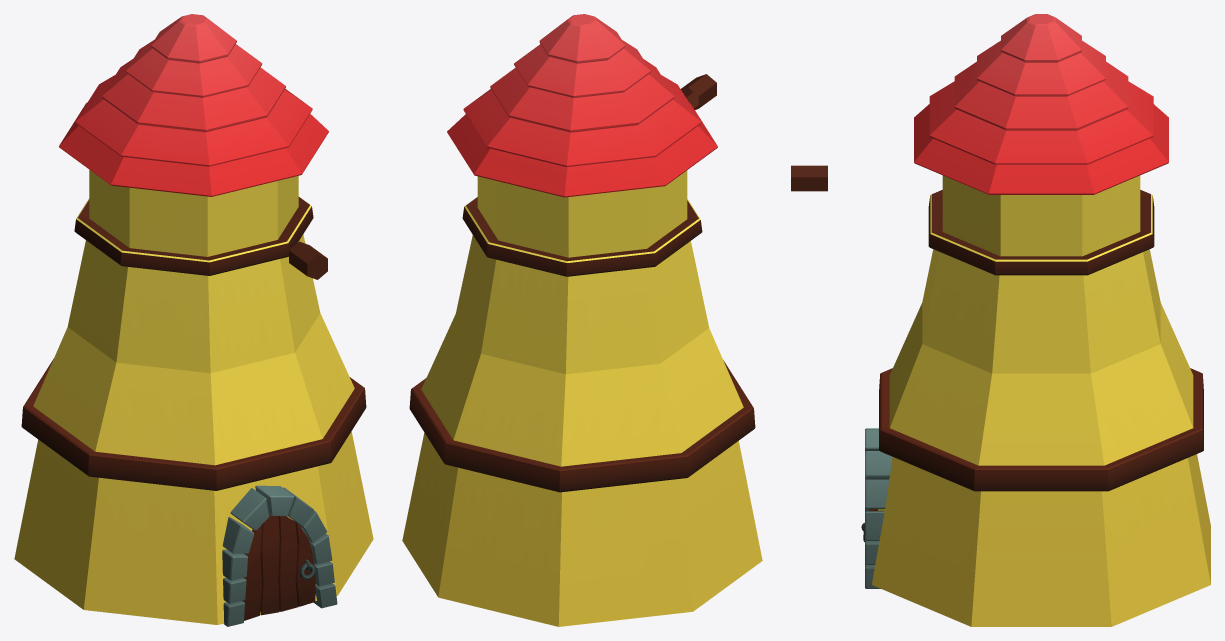
File: FBX_WindmillBase.fbx
3 views of the same model, side by side, from view 1: azimuth 30°, elevation 25°; view 2: azimuth 150°, elevation 25°; view 3: azimuth 270°, elevation 25° (orthographic).
Visible parts, largest first — view 1: M_WindmillBase; view 2: M_WindmillBase; view 3: M_WindmillBase.
Boxes of the visible parts, x1,y1,x2,y2 form: M_WindmillBase: [14, 14, 373, 626]; M_WindmillBase: [402, 14, 762, 626]; M_WindmillBase: [791, 14, 1210, 626].
Bounding box in the file's own units: 6.53 × 11.53 × 8.1.
